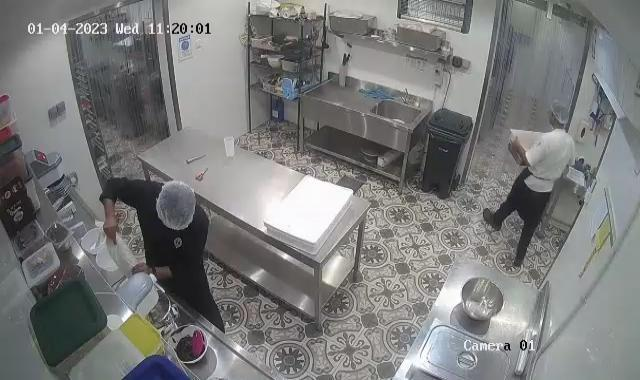gloves: (154, 178, 196, 230), (549, 99, 572, 125)
no_apron: (124, 261, 164, 286), (98, 212, 125, 248), (504, 134, 526, 156)
no_hairnet: (548, 114, 558, 129)
